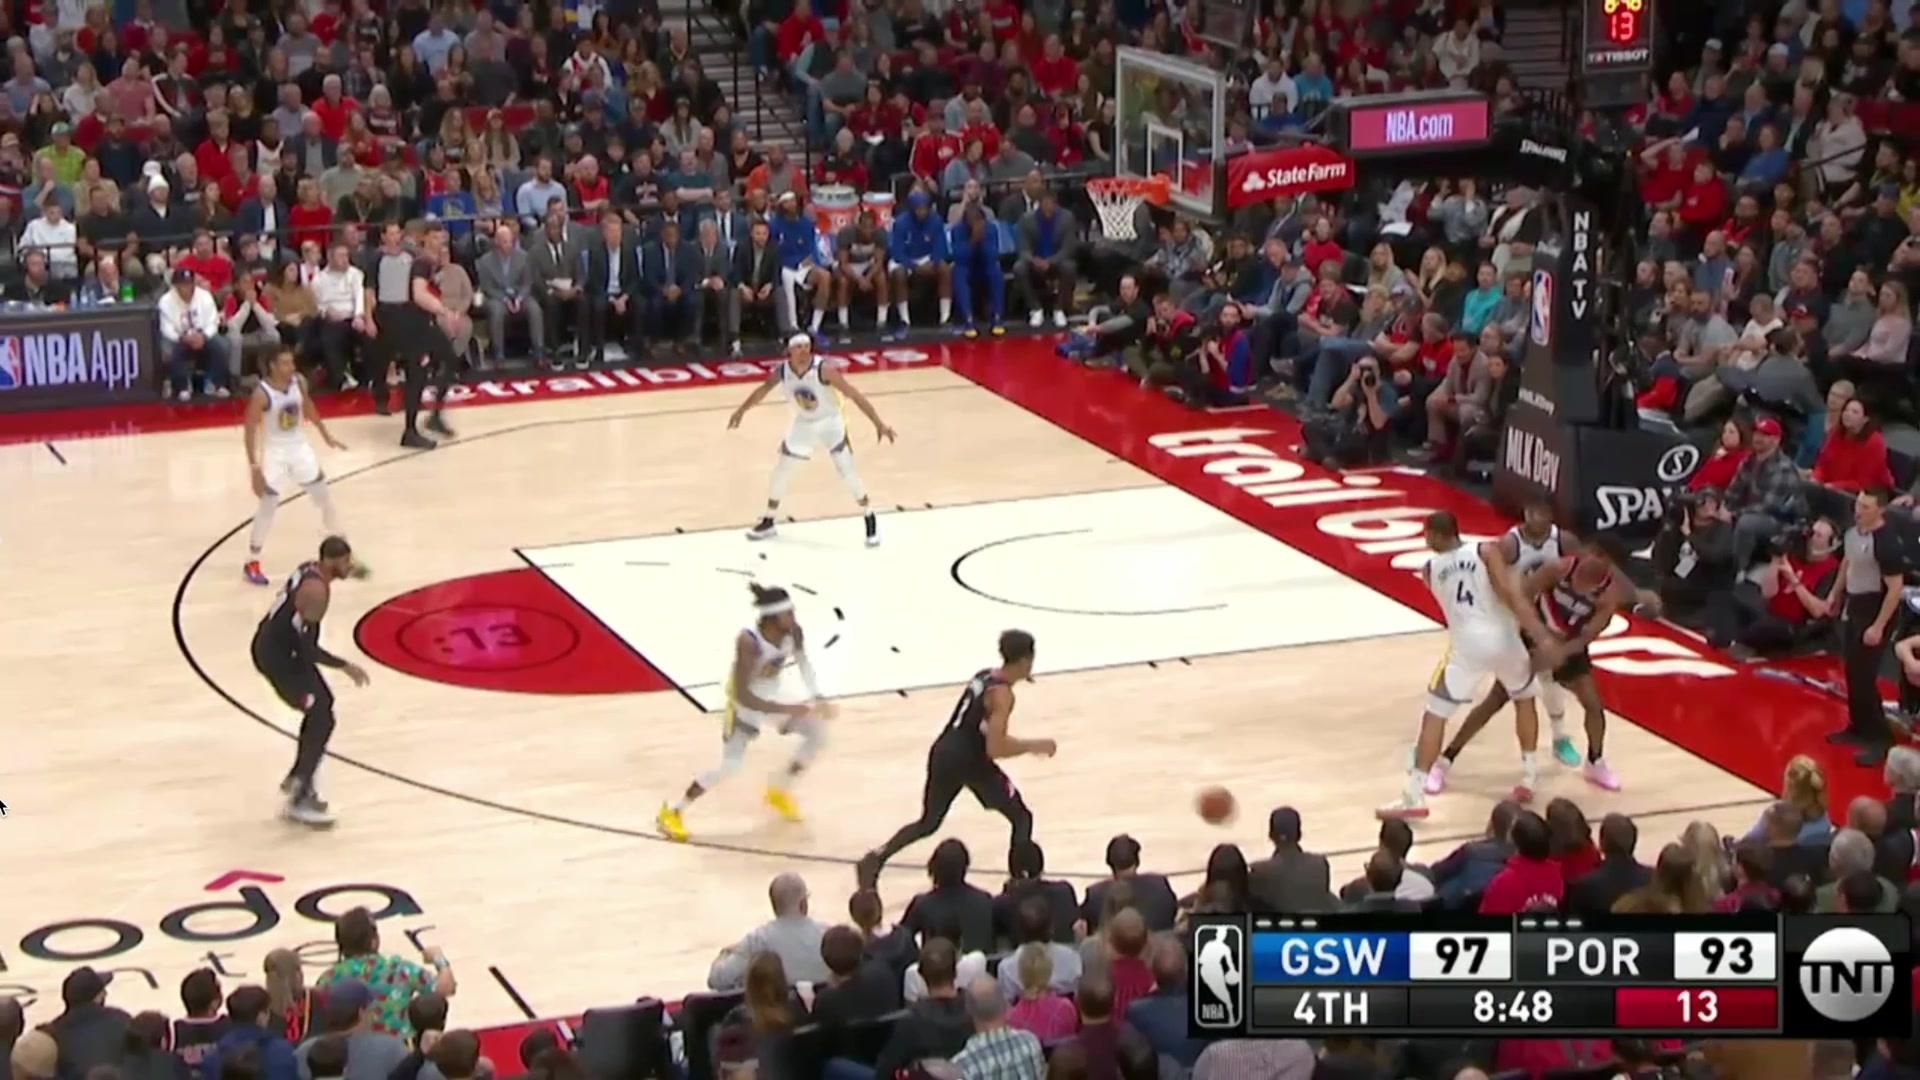no_foul: (1407, 484, 1614, 773)
